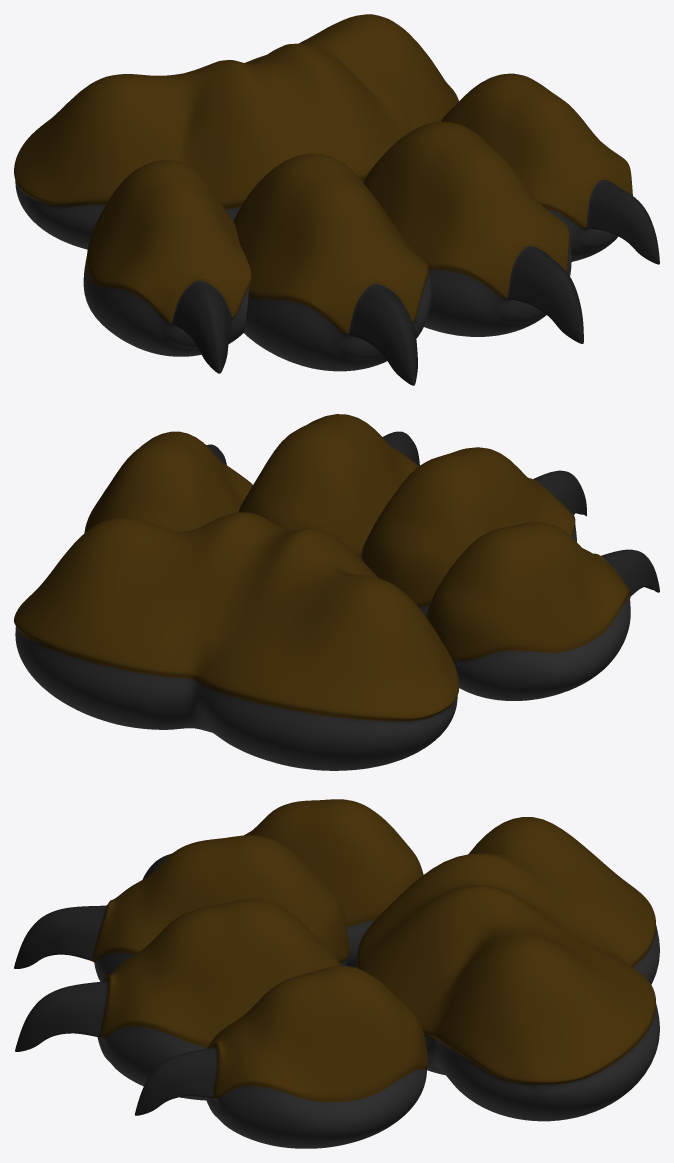
File: Wolf_Paw.fbx
3 renders of one model, top to bottom at view 1: azimuth 30°, elevation 25°; view 2: azimuth 150°, elevation 25°; view 3: azimuth 270°, elevation 25°, orthographic.
Parts seen in each view (by area): view 1: Paw; view 2: Paw; view 3: Paw.
Part boxes in pixels (x1,y1,x2,y2): Paw: [14, 14, 659, 385]; Paw: [14, 414, 659, 770]; Paw: [14, 799, 659, 1148].
Size of the model in its own units: 173 by 59.61 by 188.
